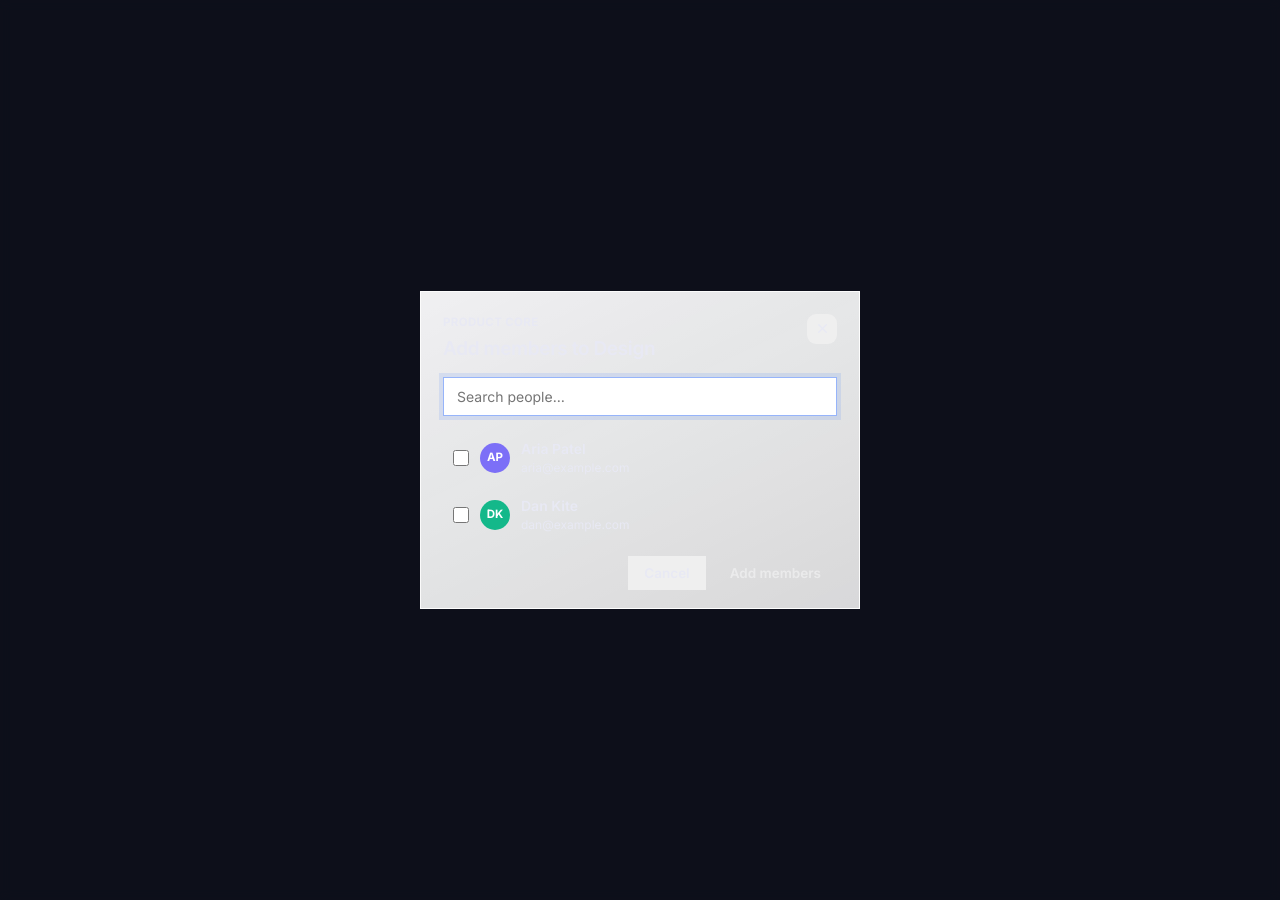
AddTeamMembersModal › keeps the submit button disabled until someone is picked
Click the checkbox labelled "DK Dan Kite dan@example.com" at (461, 515), box x1=453 y1=507 x2=469 y2=523
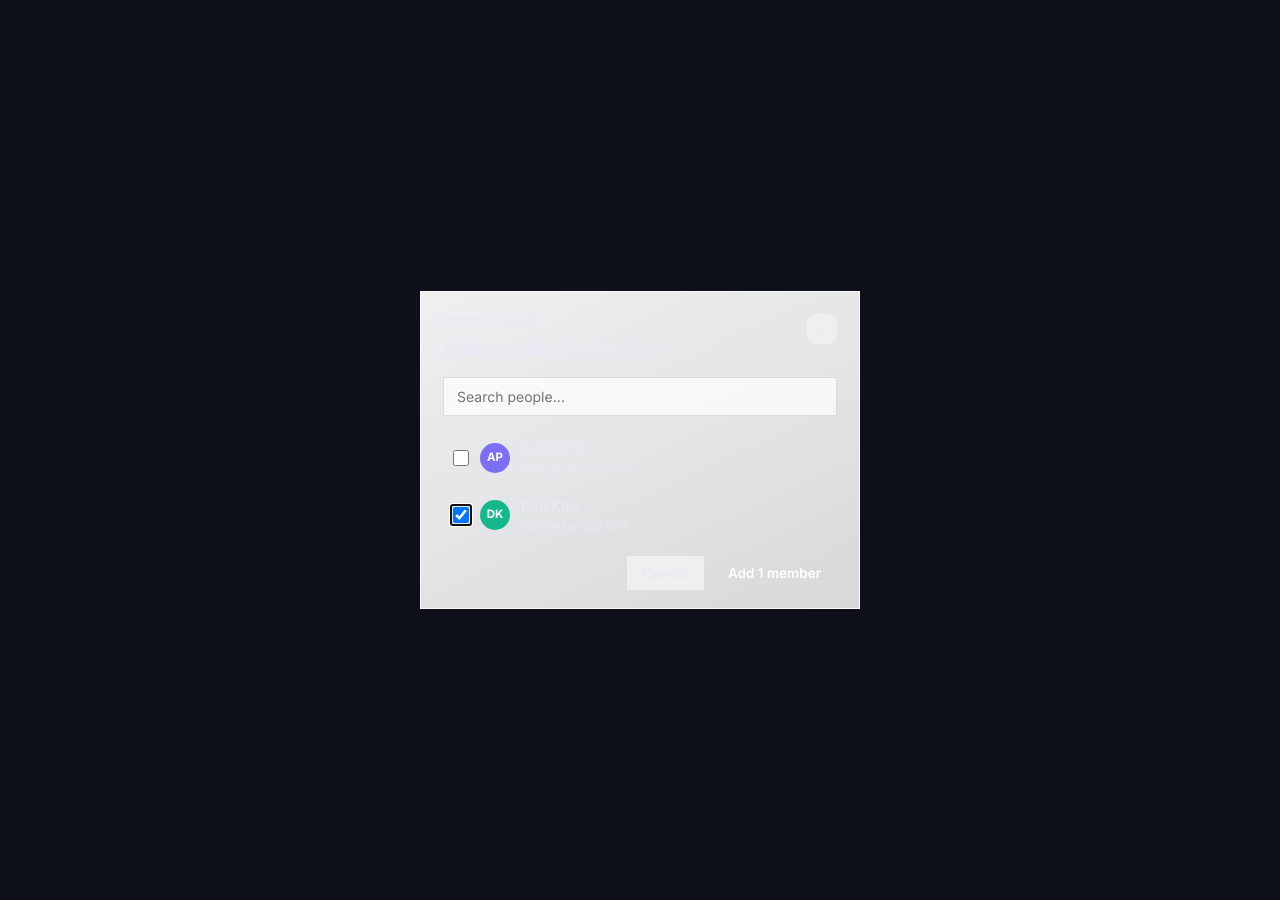
Expected: the button "Add 1 member" is enabled, x1=712 y1=556 x2=837 y2=590
Expected: the button "Add 1 member" is shown, x1=712 y1=556 x2=837 y2=590
